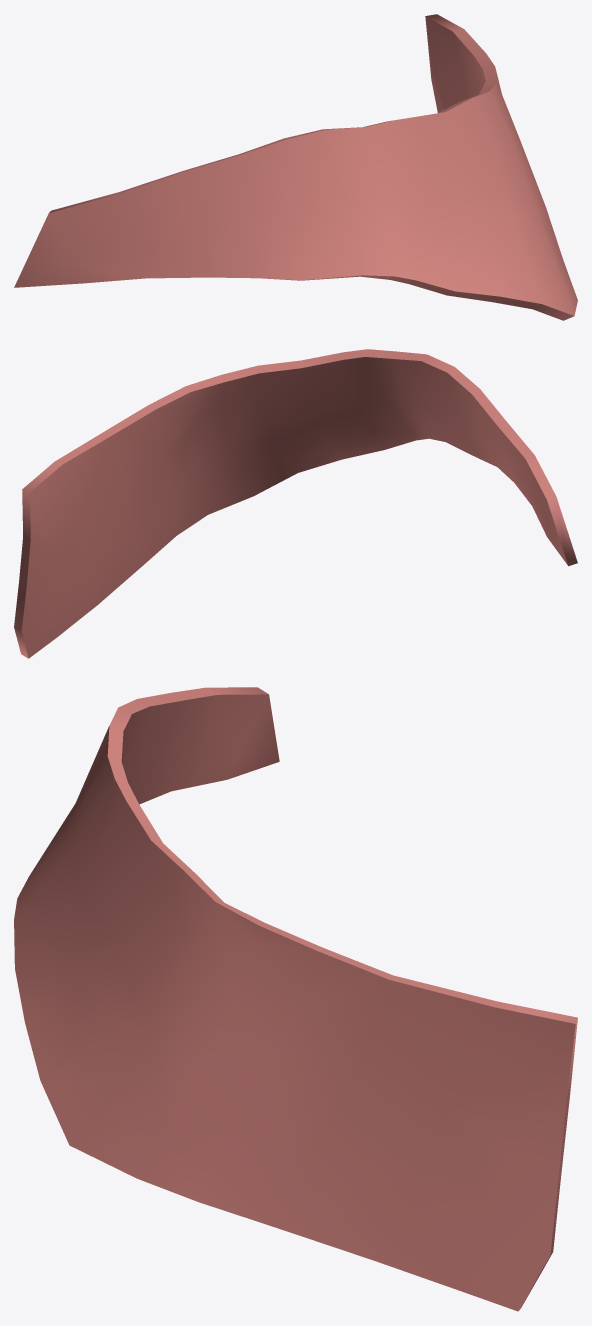
3 views of the same model, one above another, from view 1: azimuth 30°, elevation 25°; view 2: azimuth 150°, elevation 25°; view 3: azimuth 270°, elevation 25° (orthographic). The views are drawn at different scales.
Visible parts, largest first — view 1: ZA_b30399e80ad15af2; view 2: ZA_b30399e80ad15af2; view 3: ZA_b30399e80ad15af2.
Boxes of the visible parts, left/top/right/bottom form: ZA_b30399e80ad15af2: left=14, top=14, right=577, bottom=320; ZA_b30399e80ad15af2: left=14, top=349, right=577, bottom=658; ZA_b30399e80ad15af2: left=14, top=687, right=577, bottom=1311.
Bounding box in the file's own units: 0.0529 × 0.0284 × 0.0368.
